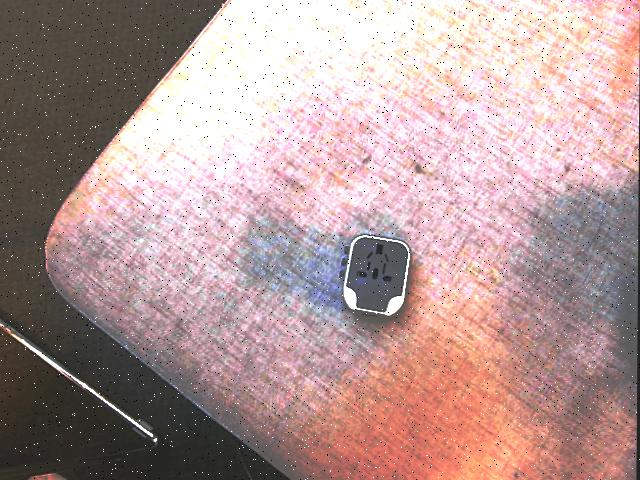adapter: (340, 234, 411, 316)
